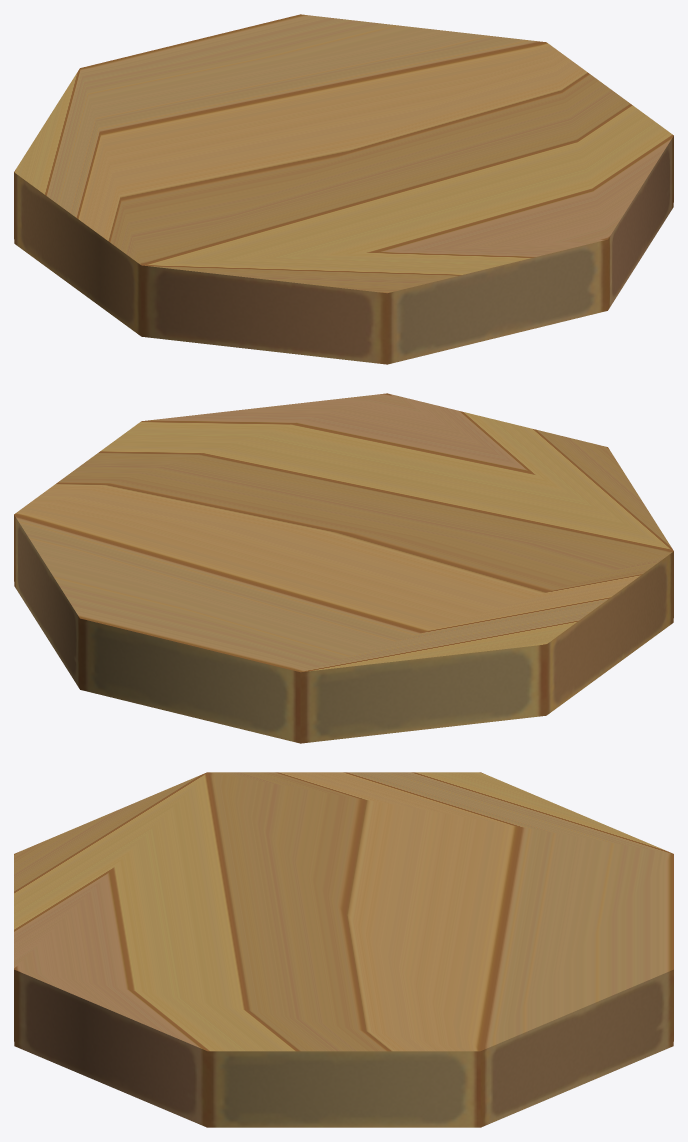
Rendered from Plant06_col.FBX.
The picture shows the model from 3 angles, top to bottom: view 1: azimuth 30°, elevation 25°; view 2: azimuth 150°, elevation 25°; view 3: azimuth 270°, elevation 25°; orthographic projection. The views are drawn at different scales.
Visible parts, largest first — view 1: Plant06_col; view 2: Plant06_col; view 3: Plant06_col.
Boxes of the visible parts, x1=… form: Plant06_col: x1=14, y1=14, x2=673, y2=364; Plant06_col: x1=14, y1=393, x2=673, y2=743; Plant06_col: x1=14, y1=772, x2=673, y2=1127.
Size of the model in its own units: 209 by 26.79 by 209.
1 material, 1 textured.
